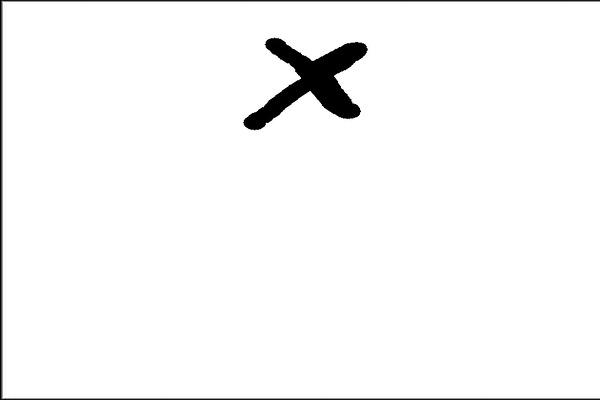X: (209, 17, 377, 155)
